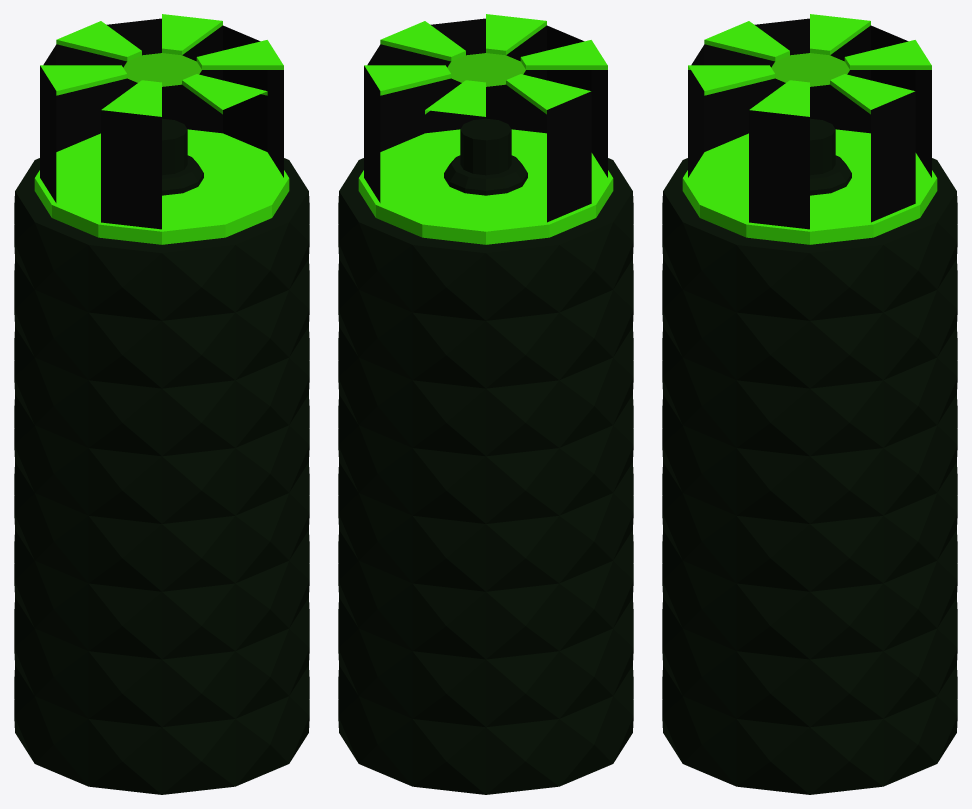
Rendered from perfume1.gltf.
3 renders of one model, left to right at view 1: azimuth 30°, elevation 25°; view 2: azimuth 150°, elevation 25°; view 3: azimuth 270°, elevation 25°, orthographic.
Parts seen in each view (by area): view 1: Cylinder; view 2: Cylinder; view 3: Cylinder.
Part boxes in pixels (x1,y1,x2,y2): Cylinder: (14, 14, 309, 794); Cylinder: (338, 14, 633, 794); Cylinder: (662, 14, 957, 794).
Size of the model in its own units: 1.48 by 3.7 by 1.48.
